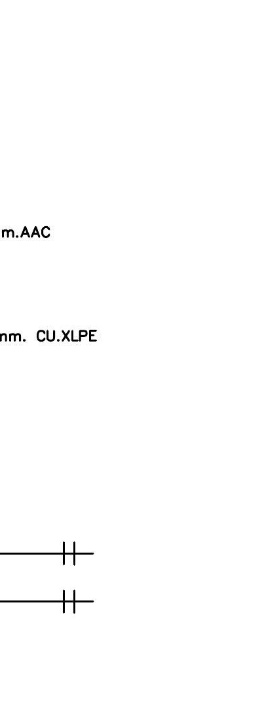115_buffer: (63, 589, 76, 614), (63, 541, 75, 566)
